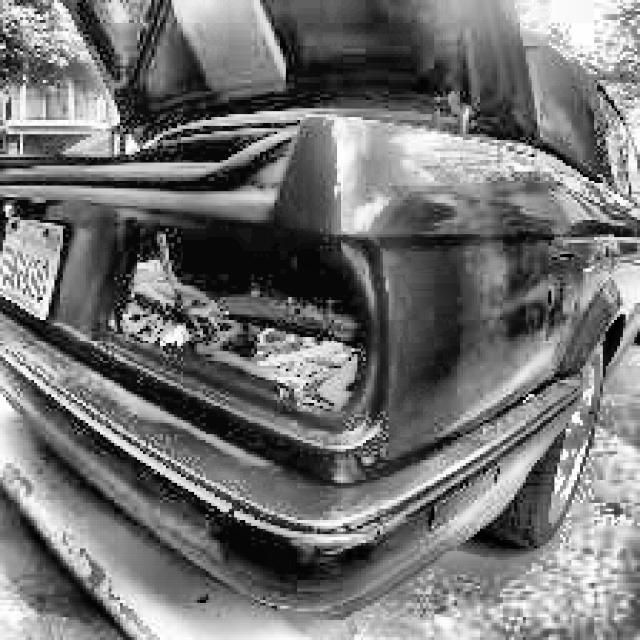tail_lamp: (132, 251, 361, 413)
